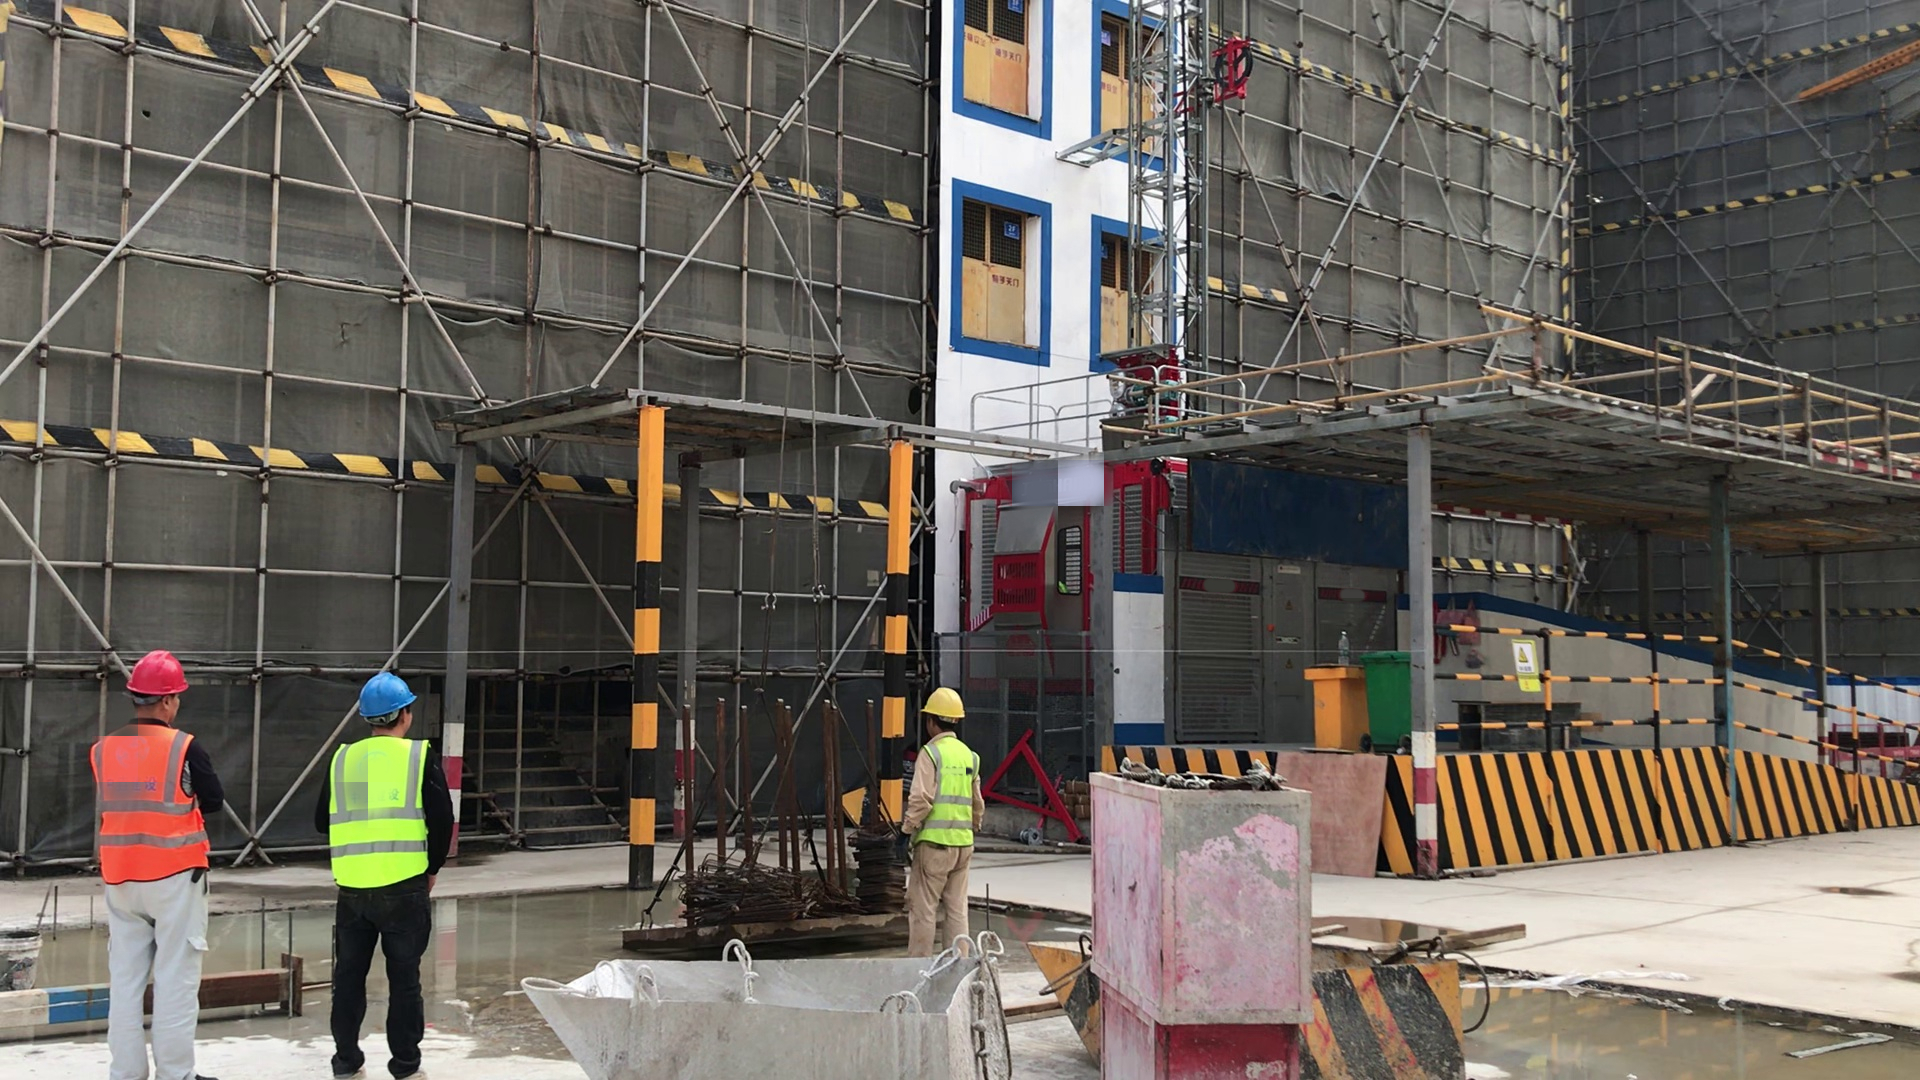fence: (1435, 604, 1920, 781)
helmet: (347, 662, 417, 727), (125, 647, 194, 702), (917, 686, 974, 726)
hopper: (1025, 923, 1466, 1080), (527, 941, 1017, 1080)
person: (83, 644, 233, 1080), (314, 664, 466, 1080), (899, 686, 986, 954)
slogan: (1515, 631, 1542, 691)
vest: (88, 715, 213, 880), (322, 733, 441, 899), (906, 733, 986, 855)
